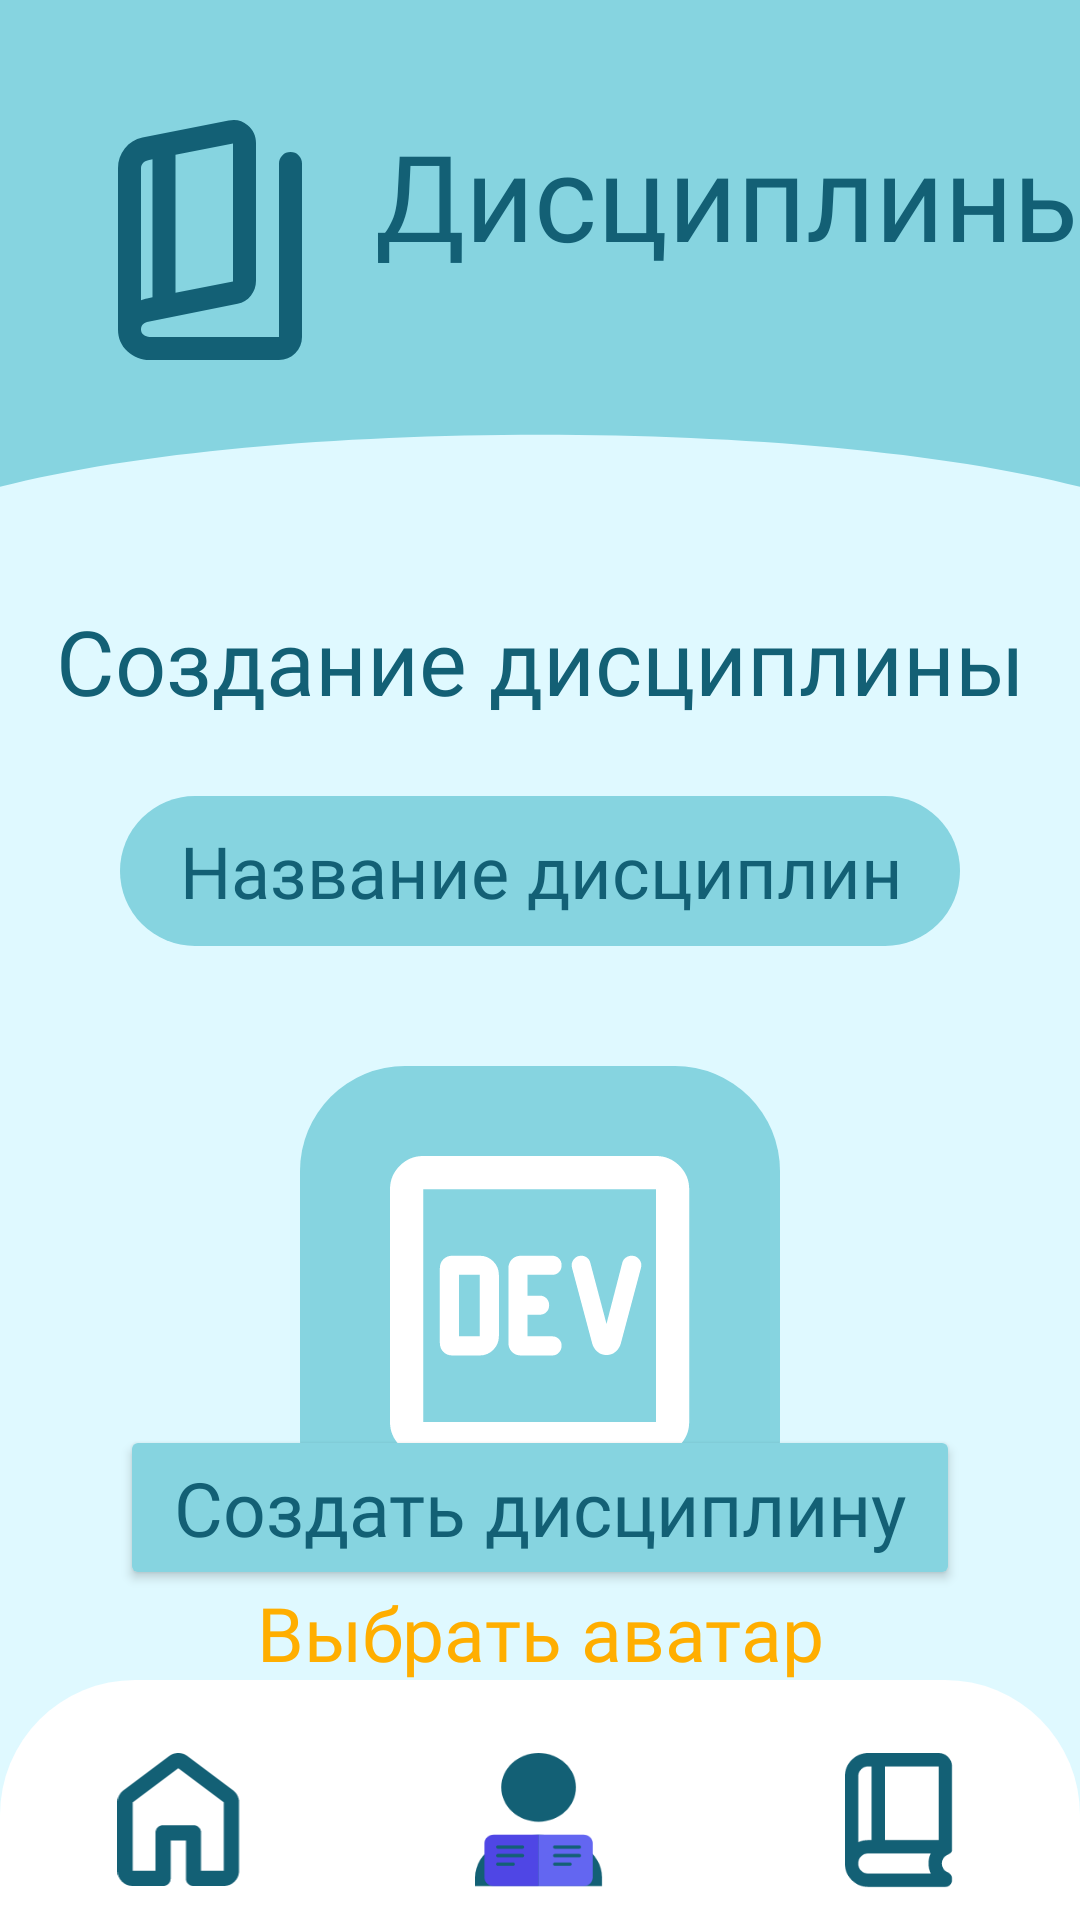

Screen size 1080 × 1920. Icon name, then its box in pixels as (x1, y1, x2, y2):
book: (845, 1753, 953, 1887)
home: (117, 1753, 240, 1886)
